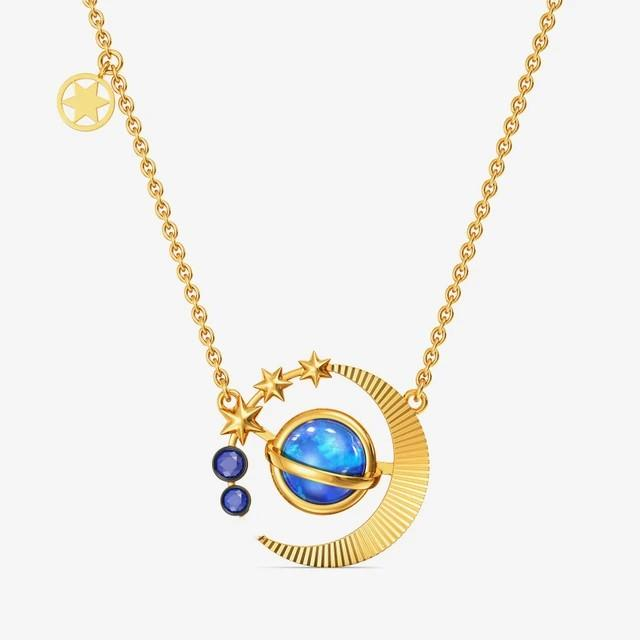missing gem: (241, 512, 265, 537)
